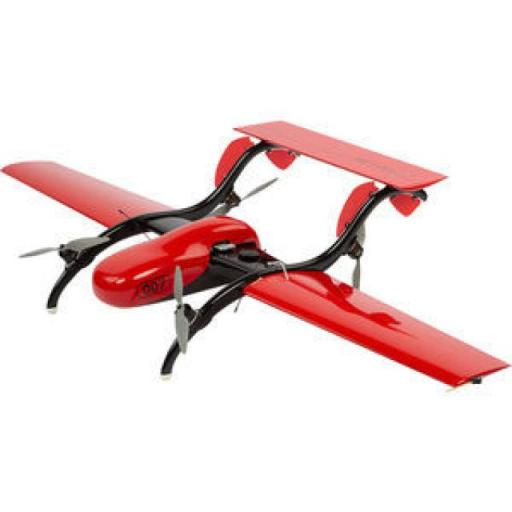uav: (6, 110, 512, 392)
